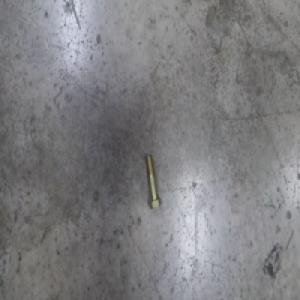Bolt: (144, 152, 162, 209)
